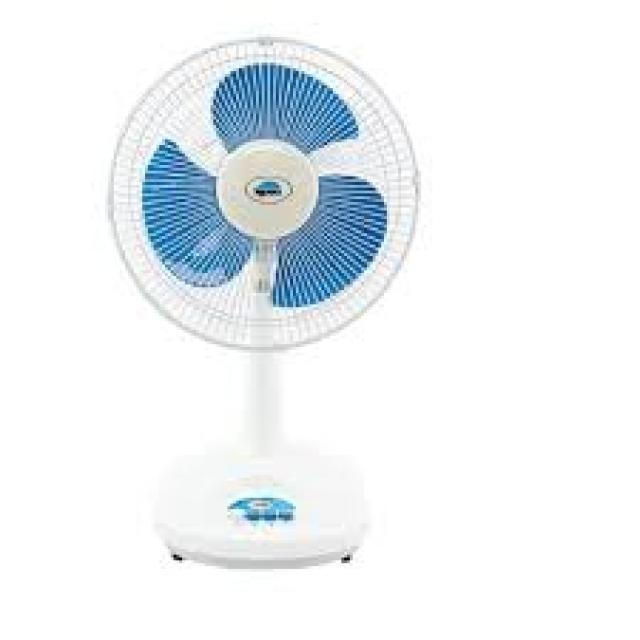fan: (84, 29, 438, 602)
